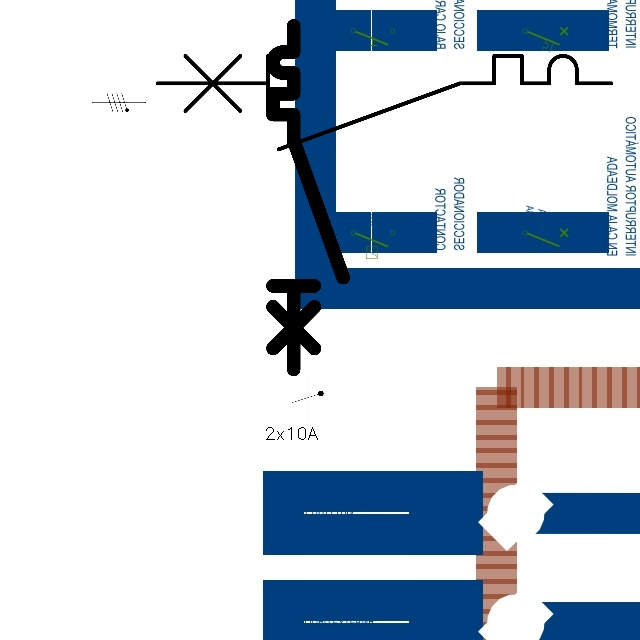interruptor_termomagnetico: (145, 44, 622, 160), (264, 17, 352, 378)
